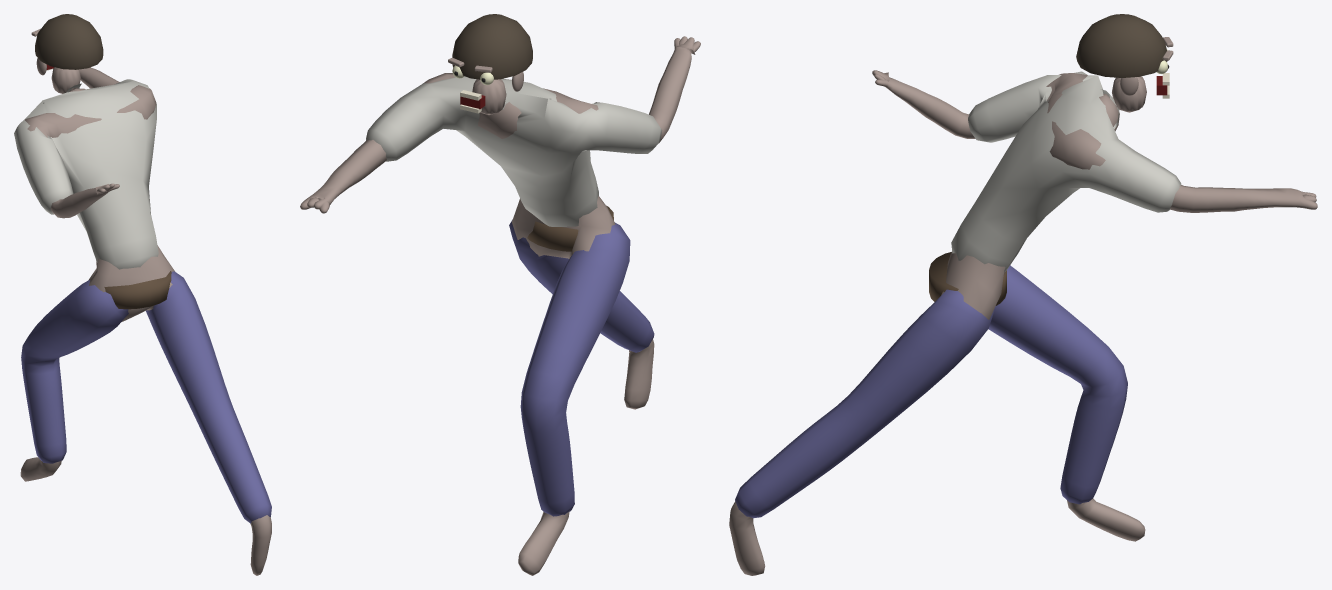
File: zombie_runner.glb
The picture shows the model from 3 angles, left to right: view 1: azimuth 30°, elevation 25°; view 2: azimuth 150°, elevation 25°; view 3: azimuth 270°, elevation 25°; orthographic projection. The views are drawn at different scales.
Visible parts, largest first — view 1: pants, shirt, body, hair, belt, head; view 2: shirt, pants, body, hair, belt, head; view 3: pants, shirt, body, hair, head, belt.
Boxes of the visible parts, bbox=[...] form: pants: bbox=[21, 271, 271, 523]; shirt: bbox=[14, 79, 158, 269]; body: bbox=[20, 67, 271, 575]; hair: bbox=[35, 14, 103, 69]; belt: bbox=[104, 271, 171, 309]; head: bbox=[36, 58, 80, 93]; shirt: bbox=[366, 76, 662, 226]; pants: bbox=[509, 219, 654, 516]; body: bbox=[300, 36, 700, 575]; hair: bbox=[452, 14, 532, 79]; belt: bbox=[527, 205, 613, 251]; head: bbox=[472, 72, 523, 114]; pants: bbox=[735, 265, 1127, 518]; shirt: bbox=[951, 71, 1181, 271]; body: bbox=[729, 70, 1317, 575]; hair: bbox=[1076, 14, 1167, 77]; head: bbox=[1112, 76, 1146, 112]; belt: bbox=[929, 252, 1006, 305].
Bounding box in the file's own units: 0.6713 × 1.7 × 1.66.
